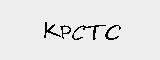К: (42, 21, 60, 39)
Р: (60, 23, 70, 43)
С: (103, 23, 121, 41), (71, 24, 85, 44)
Т: (86, 22, 105, 42)
